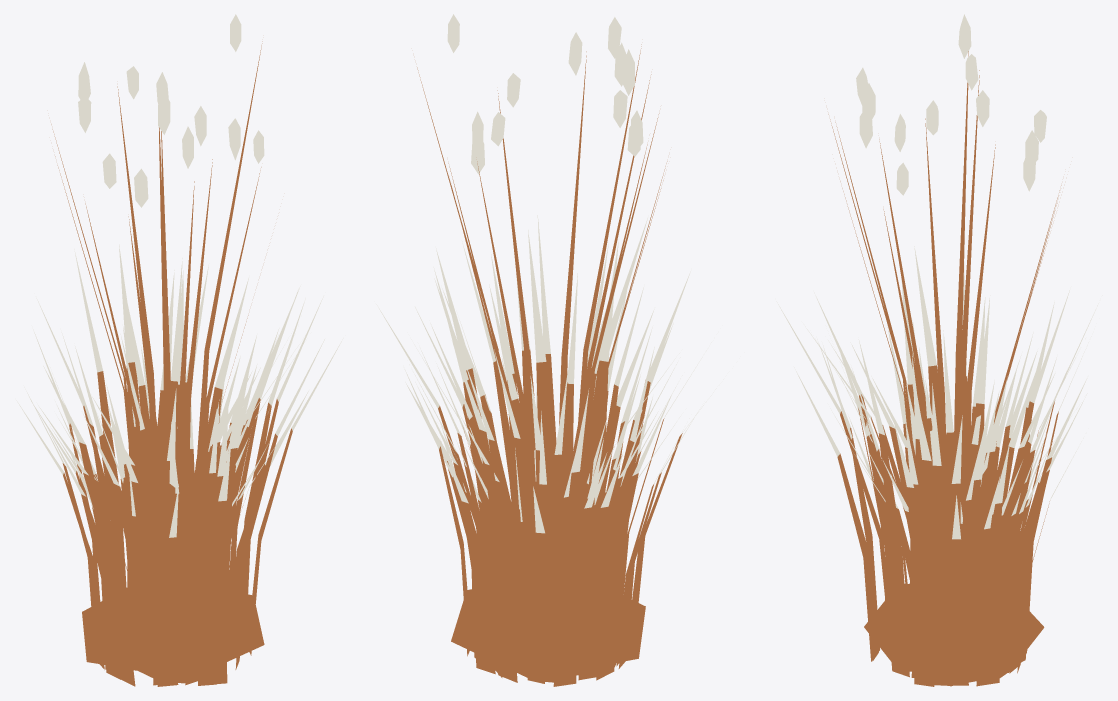
The model's file is Blender_LittleBluestem_1.glb.
The picture shows the model from 3 angles, left to right: view 1: azimuth 30°, elevation 25°; view 2: azimuth 150°, elevation 25°; view 3: azimuth 270°, elevation 25°; orthographic projection. The views are drawn at different scales.
Visible parts, largest first — view 1: Blender_LittleBluestem_1; view 2: Blender_LittleBluestem_1; view 3: Blender_LittleBluestem_1.
Boxes of the visible parts, bbox=[...] form: Blender_LittleBluestem_1: bbox=[16, 14, 343, 686]; Blender_LittleBluestem_1: bbox=[376, 14, 723, 686]; Blender_LittleBluestem_1: bbox=[776, 14, 1102, 686].
Bounding box in the file's own units: 0.6204 × 1.16 × 0.5734.
